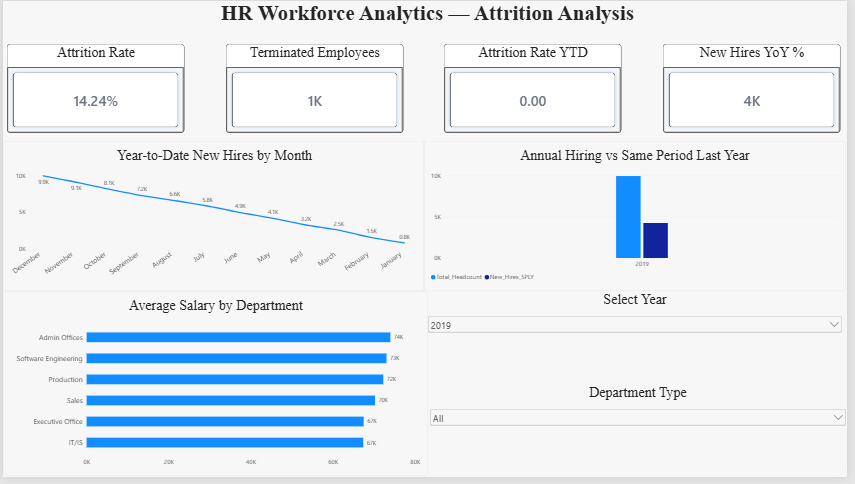

Layout of this report page (visuals, bound fields, positions):
{"tool":"powerbi","page":{"name":"Attrition Analysis","canvas":[1920,1080],"ordinal":1},"visuals":[{"type":"textbox","box":[9.1,0,1911.4,75],"z":0},{"type":"cardVisual","title":"Attrition Rate","fields":{"Data":["_Measures.Attrition_Rate_%"]},"box":[9.1,97.7,402.6,202.3],"z":1},{"type":"cardVisual","title":"Terminated Employees","fields":{"Data":["_Measures.Terminated_Count"]},"box":[506.1,97.7,402.6,202.3],"z":2},{"type":"cardVisual","title":"Attrition Rate YTD","fields":{"Data":["_Measures.Attrition_Rate_YTD"]},"box":[1003,97.7,402.6,202.3],"z":3},{"type":"cardVisual","title":"New Hires YoY %","fields":{"Data":["_Measures.New_Hires_SPLY"]},"box":[1500,97.7,402.6,202.3],"z":4},{"type":"clusteredBarChart","title":"Average Salary by Department","fields":{"Category":["EmployeeMaster.DepartmentType"],"Y":["_Measures.Avg_Salary"]},"box":[0,659.1,965.9,420.5],"z":5},{"type":"clusteredColumnChart","title":"Annual Hiring vs Same Period Last Year","fields":{"Category":["DimDate.Year"],"Y":["_Measures.Total_Headcount","_Measures.New_Hires_SPLY"]},"box":[954.5,318.2,961.4,340.9],"z":6},{"type":"lineChart","title":"Year-to-Date New Hires by Month","fields":{"Category":["DimDate.Month_Name"],"Y":["_Measures.YTD_New_Hires"]},"box":[0,318.2,959.1,340.9],"z":7},{"type":"slicer","title":"Select Year","fields":{"Values":["DimDate.Year"]},"box":[961.4,659.1,950,211.4],"z":9},{"type":"slicer","title":"Department Type","fields":{"Values":["EmployeeMaster.DepartmentType"]},"box":[965.9,870.5,954.5,209.1],"z":10}]}

Visuals, with their boxes in screenshot pixels (x1, y1, x2, y2), scaled from the page's 1920x1080 canvas onto the 855x484 screenshot:
textbox: box(4, 0, 854, 34)
"Attrition Rate" cardVisual: box(4, 44, 183, 134)
"Terminated Employees" cardVisual: box(225, 44, 405, 134)
"Attrition Rate YTD" cardVisual: box(447, 44, 626, 134)
"New Hires YoY %" cardVisual: box(668, 44, 847, 134)
"Average Salary by Department" clusteredBarChart: box(0, 295, 430, 483)
"Annual Hiring vs Same Period Last Year" clusteredColumnChart: box(425, 143, 853, 295)
"Year-to-Date New Hires by Month" lineChart: box(0, 143, 427, 295)
"Select Year" slicer: box(428, 295, 851, 390)
"Department Type" slicer: box(430, 390, 854, 483)
